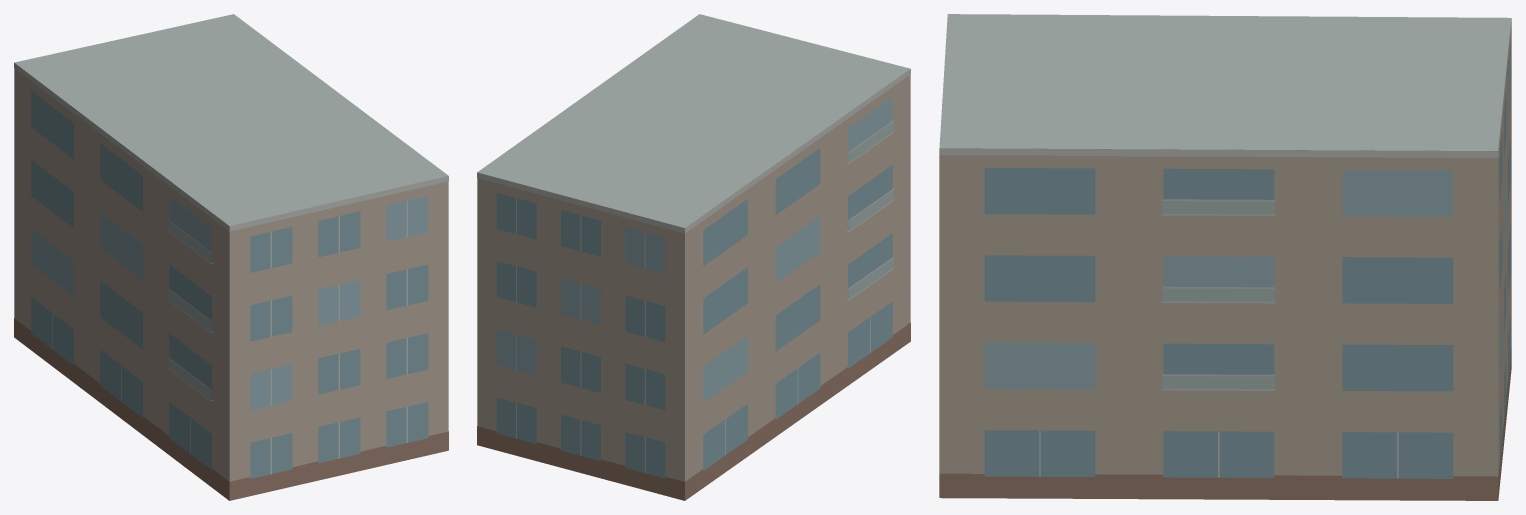
File: survey-upis-32769327.glb
3 renders of one model, left to right at view 1: azimuth 30°, elevation 25°; view 2: azimuth 150°, elevation 25°; view 3: azimuth 270°, elevation 25°, orthographic. The views are drawn at different scales.
Visible parts, largest first — view 1: survey-upis-32769327.tmp; view 2: survey-upis-32769327.tmp; view 3: survey-upis-32769327.tmp.
Boxes of the visible parts, box(x1,y1,x2,y2) form: survey-upis-32769327.tmp: box(14, 14, 448, 500); survey-upis-32769327.tmp: box(477, 14, 910, 500); survey-upis-32769327.tmp: box(939, 14, 1511, 500).
Bounding box in the file's own units: 10.27 × 12.2 × 18.1.
